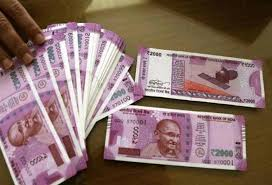twoHundred: (120, 115, 237, 162)
twoThousand: (120, 113, 238, 163)
